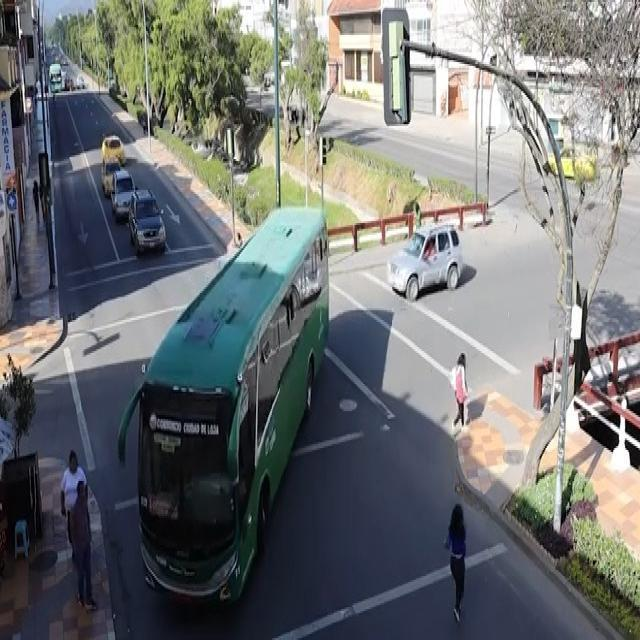BUS: (127, 226, 325, 594)
